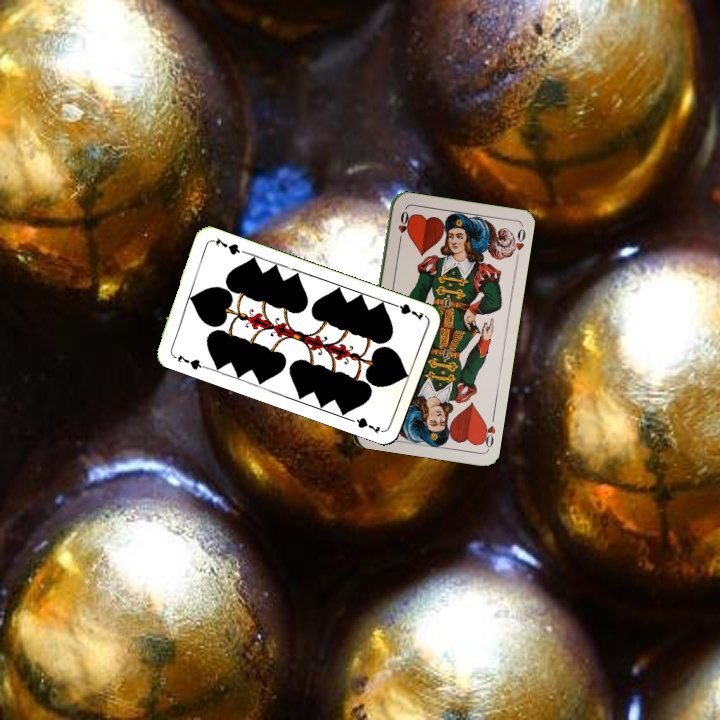G7: (387, 299, 426, 323), (168, 350, 207, 372)
HO: (476, 410, 498, 451), (394, 207, 410, 247)
